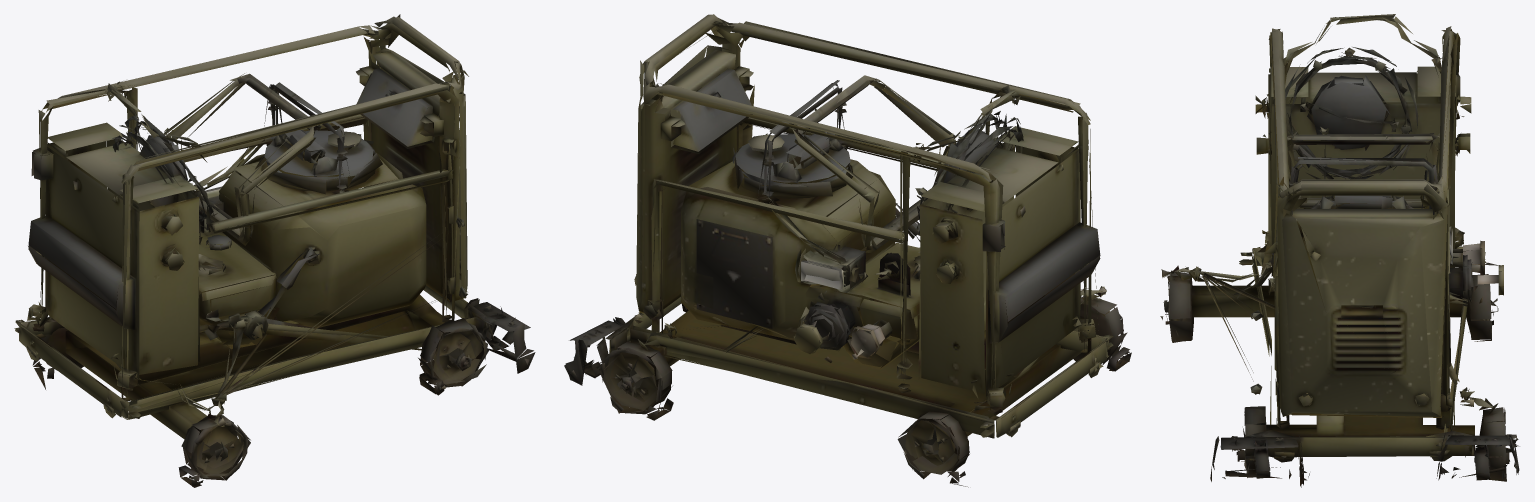
Rendered from ch4_meridian_generator_LOD2.glb.
The picture shows the model from 3 angles, left to right: view 1: azimuth 30°, elevation 25°; view 2: azimuth 150°, elevation 25°; view 3: azimuth 270°, elevation 25°; orthographic projection. The views are drawn at different scales.
Parts seen in each view (by area): view 1: tripo_node_9e752b1c-60be-4cdb-9f9e-50ec3e205cbf; view 2: tripo_node_9e752b1c-60be-4cdb-9f9e-50ec3e205cbf; view 3: tripo_node_9e752b1c-60be-4cdb-9f9e-50ec3e205cbf.
Part boxes in pixels (x1=…): tripo_node_9e752b1c-60be-4cdb-9f9e-50ec3e205cbf: x1=14, y1=14, x2=535, y2=487; tripo_node_9e752b1c-60be-4cdb-9f9e-50ec3e205cbf: x1=564, y1=14, x2=1131, y2=487; tripo_node_9e752b1c-60be-4cdb-9f9e-50ec3e205cbf: x1=1160, y1=14, x2=1519, y2=487.
Size of the model in its own units: 1 by 0.788 by 0.7743.
1 material, 1 textured.
